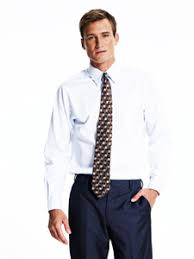tie: (93, 72, 115, 197)
